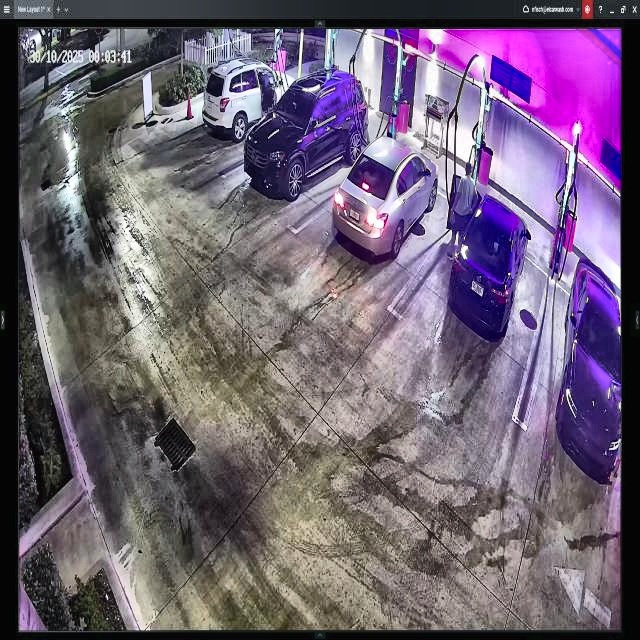Car: (244, 70, 366, 190), (448, 178, 532, 338), (336, 135, 438, 258)
